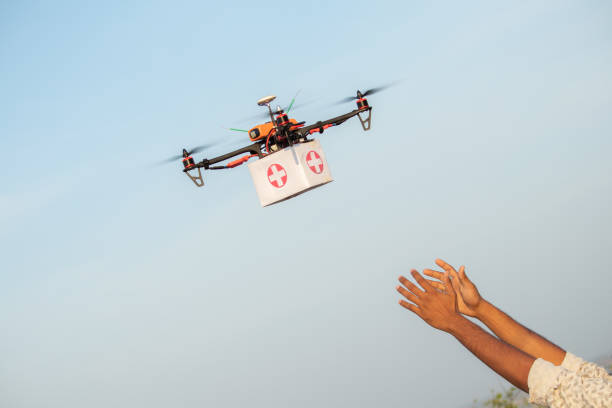Drone: (155, 81, 393, 190)
